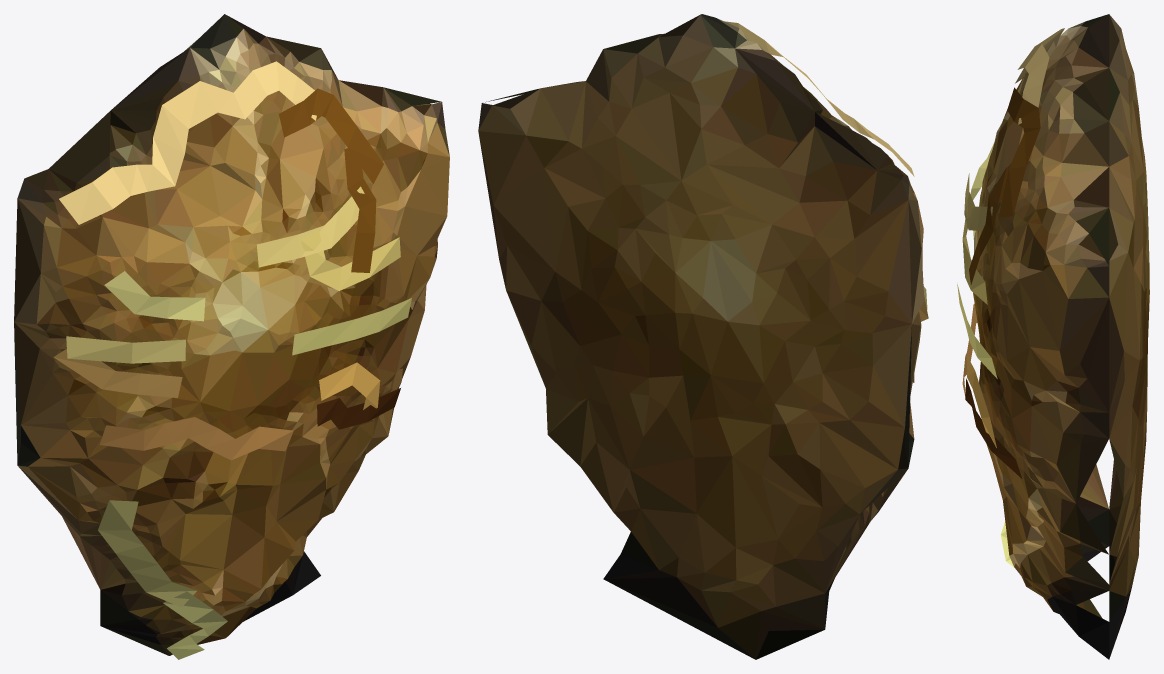
3 renders of one model, left to right at view 1: azimuth 30°, elevation 25°; view 2: azimuth 150°, elevation 25°; view 3: azimuth 270°, elevation 25°, orthographic. The views are drawn at different scales.
Parts seen in each view (by area): view 1: object 2, detail; view 2: object 2, detail; view 3: object 2, detail.
Part boxes in pixels (x1=…): object 2: x1=14, y1=14, x2=449, y2=655; detail: x1=53, y1=61, x2=411, y2=659; object 2: x1=478, y1=14, x2=924, y2=659; detail: x1=724, y1=21, x2=928, y2=382; object 2: x1=973, y1=14, x2=1149, y2=659; detail: x1=957, y1=28, x2=1064, y2=567.
Bounding box in the file's own units: 125 × 174 × 47.33.
